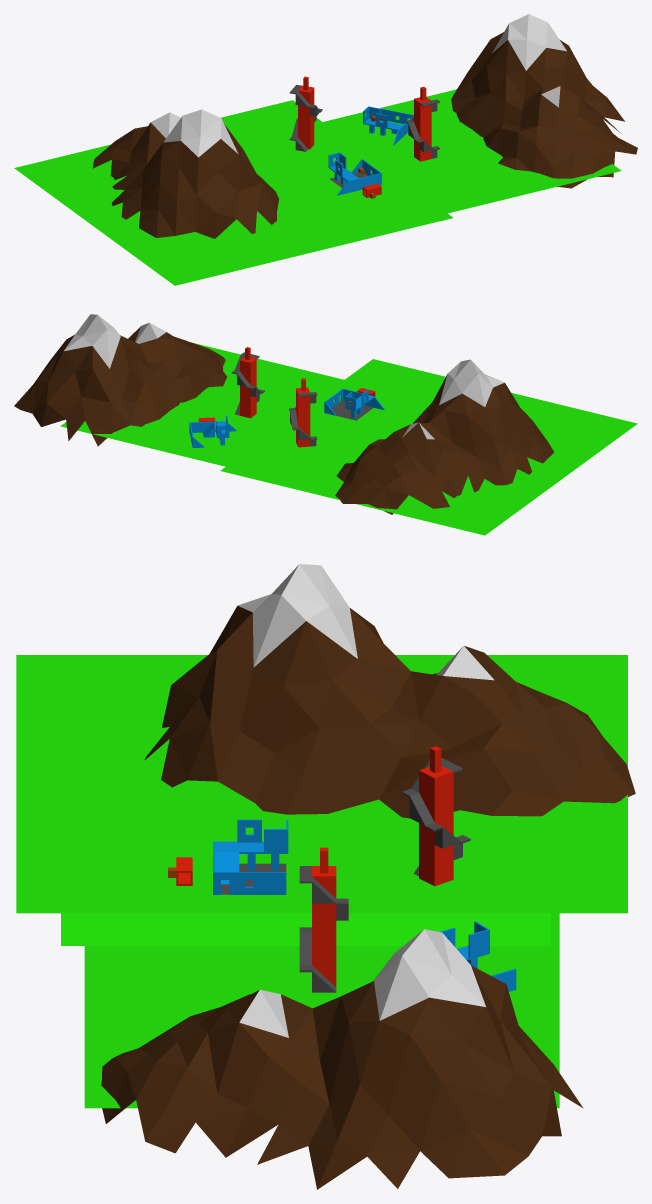
File: newmaptest.glb
3 renders of one model, top to bottom at view 1: azimuth 30°, elevation 25°; view 2: azimuth 150°, elevation 25°; view 3: azimuth 270°, elevation 25°, orthographic. The views are drawn at different scales.
Visible parts, largest first — view 1: Plane.002, Plane.004, Plane.005, Plane, Plane.006, Plane.007, wall.005, wall.010, wall.001; view 2: Plane.002, Plane.005, Plane.004, Plane, Plane.007, Plane.006, wall.012, wall.004, wall.006, Plane.001; view 3: Plane.002, Plane.004, Plane.005, Plane, slope stairs.006, Plane.007, Plane.006, wall.003, wall.013, wall.011.
Part boxes in pixels (left/top/right/bottom): Plane.002: left=14, top=100, right=453, bottom=285; Plane.004: left=451, top=32, right=637, bottom=188; Plane.005: left=92, top=122, right=279, bottom=238; Plane: left=323, top=89, right=621, bottom=213; Plane.006: left=150, top=109, right=238, bottom=157; Plane.007: left=492, top=14, right=566, bottom=107; wall.005: left=420, top=100, right=431, bottom=161; wall.010: left=298, top=91, right=310, bottom=149; wall.001: left=348, top=173, right=381, bottom=192; Plane.002: left=220, top=359, right=637, bottom=535; Plane.005: left=335, top=374, right=554, bottom=514; Plane.004: left=14, top=326, right=226, bottom=446; Plane: left=60, top=342, right=344, bottom=466; Plane.007: left=64, top=314, right=166, bottom=368; Plane.006: left=402, top=359, right=504, bottom=439; wall.012: left=298, top=392, right=310, bottom=447; wall.004: left=241, top=360, right=250, bottom=418; wall.006: left=249, top=358, right=256, bottom=417; Plane.001: left=331, top=400, right=373, bottom=420; Plane.002: left=16, top=655, right=627, bottom=913; Plane.004: left=101, top=965, right=583, bottom=1189; Plane.005: left=144, top=606, right=635, bottom=818; Plane: left=84, top=913, right=559, bottom=1108; slope stairs.006: left=61, top=913, right=550, bottom=945; Plane.007: left=239, top=929, right=485, bottom=1037; Plane.006: left=238, top=564, right=494, bottom=680; wall.003: left=312, top=875, right=336, bottom=986; wall.013: left=433, top=771, right=453, bottom=885; wall.011: left=419, top=770, right=436, bottom=886.
Size of what is drawn, in the model's own units: 288 by 61.86 by 152.
